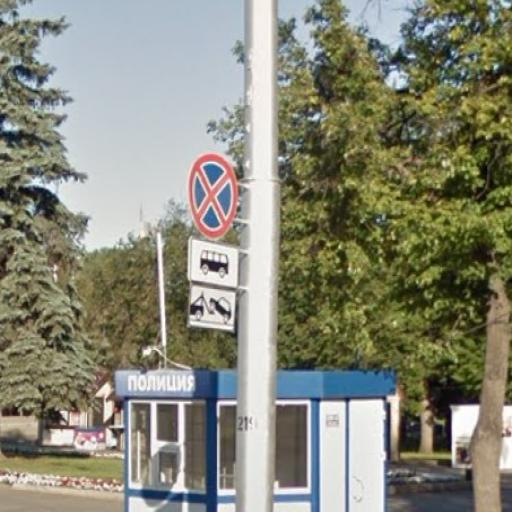traffic_sign: (188, 151, 241, 241)
